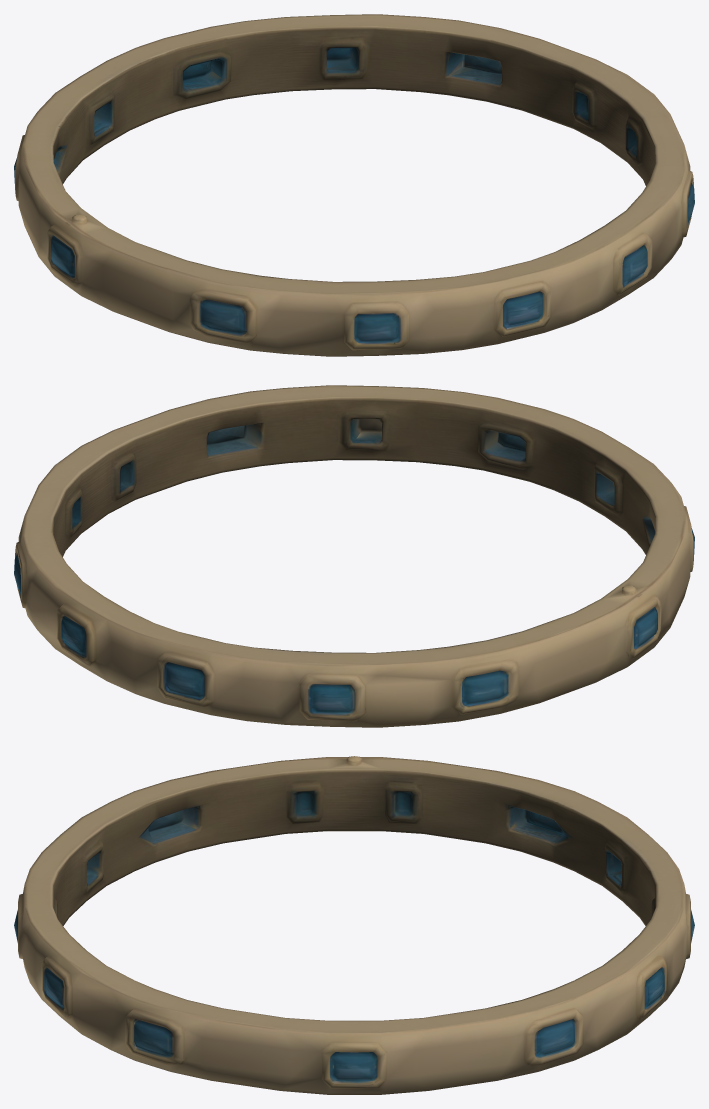
File: bracelet-compressed.glb
The picture shows the model from 3 angles, top to bottom: view 1: azimuth 30°, elevation 25°; view 2: azimuth 150°, elevation 25°; view 3: azimuth 270°, elevation 25°; orthographic projection.
Parts seen in each view (by area): view 1: mesh_rep_0_ori_repair_quad; view 2: mesh_rep_0_ori_repair_quad; view 3: mesh_rep_0_ori_repair_quad.
Part boxes in pixels (x1=…): mesh_rep_0_ori_repair_quad: x1=14, y1=14, x2=694, y2=356; mesh_rep_0_ori_repair_quad: x1=14, y1=385, x2=694, y2=727; mesh_rep_0_ori_repair_quad: x1=14, y1=756, x2=694, y2=1094.
Size of the model in its own units: 1.19 by 0.1309 by 1.2.
1 material, 1 textured.
